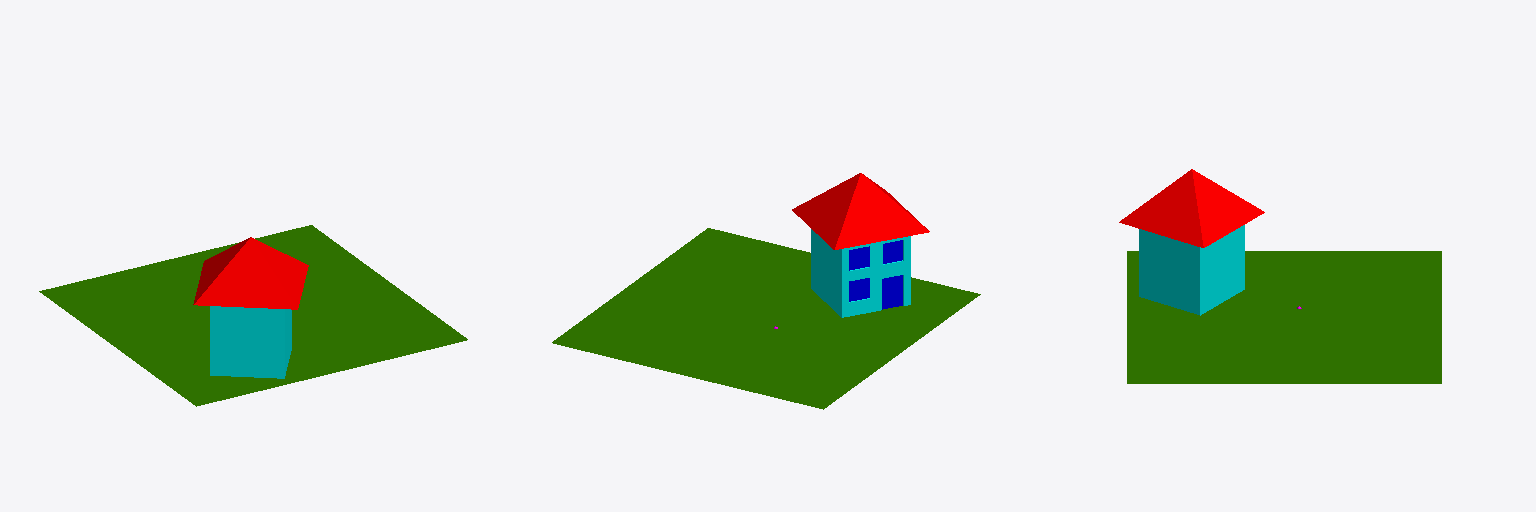
The model's file is house.obj.
3 renders of one model, left to right at view 1: azimuth 30°, elevation 25°; view 2: azimuth 150°, elevation 25°; view 3: azimuth 270°, elevation 25°, orthographic.
Visible parts, largest first — view 1: pPlane1, pPyramid1 group1, group1 pCube10; view 2: pPlane1, pPyramid1 group1, group1 pCube10, group1 pCube7; view 3: pPlane1, group1 pCube10, pPyramid1 group1.
Part boxes in pixels (bbox=[...]): pPlane1: bbox=[39, 225, 467, 406]; pPyramid1 group1: bbox=[193, 237, 308, 309]; group1 pCube10: bbox=[210, 306, 291, 378]; pPlane1: bbox=[552, 228, 980, 409]; pPyramid1 group1: bbox=[792, 173, 929, 249]; group1 pCube10: bbox=[811, 229, 910, 317]; group1 pCube7: bbox=[849, 240, 902, 309]; pPlane1: bbox=[1127, 251, 1441, 383]; group1 pCube10: bbox=[1139, 225, 1244, 315]; pPyramid1 group1: bbox=[1119, 169, 1264, 247].
Bounding box in the file's own units: 24.17 × 10.7 × 24.8.